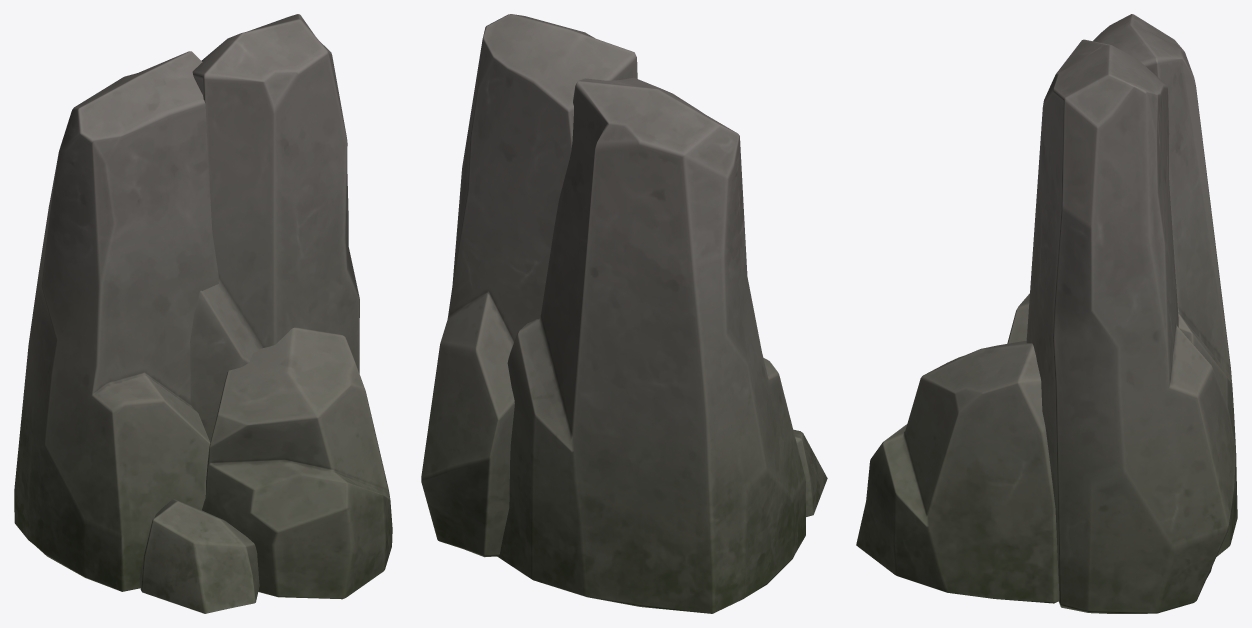
The model's file is AP2_Rock15.glb.
The picture shows the model from 3 angles, left to right: view 1: azimuth 30°, elevation 25°; view 2: azimuth 150°, elevation 25°; view 3: azimuth 270°, elevation 25°; orthographic projection. The views are drawn at different scales.
Visible parts, largest first — view 1: Rock15_LOD0; view 2: Rock15_LOD0; view 3: Rock15_LOD0.
Part boxes in pixels (x1,y1,x2,y2): Rock15_LOD0: (14, 14, 392, 613); Rock15_LOD0: (421, 14, 827, 613); Rock15_LOD0: (856, 14, 1237, 613).
Bounding box in the file's own units: 5.29 × 8.14 × 5.46.
Materials: 1 (1 with a texture image).
